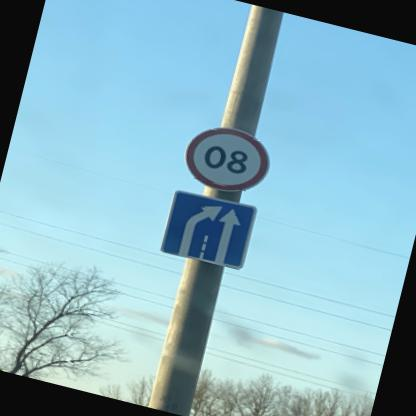speedlimit: (181, 117, 280, 200)
